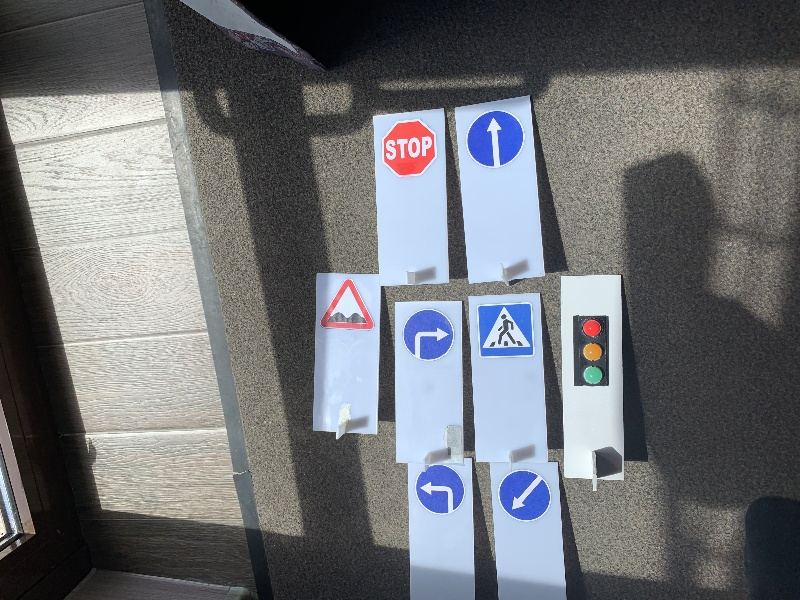Left: (415, 464, 465, 514)
Nerov: (319, 280, 376, 332)
Right: (400, 310, 455, 361)
Stop: (380, 120, 438, 174)
forw: (464, 108, 526, 171)
pesh: (474, 302, 538, 358)
prep: (499, 470, 553, 522)
